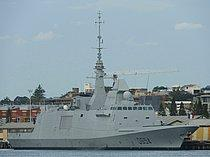MIL_Ship: (5, 53, 199, 149)
